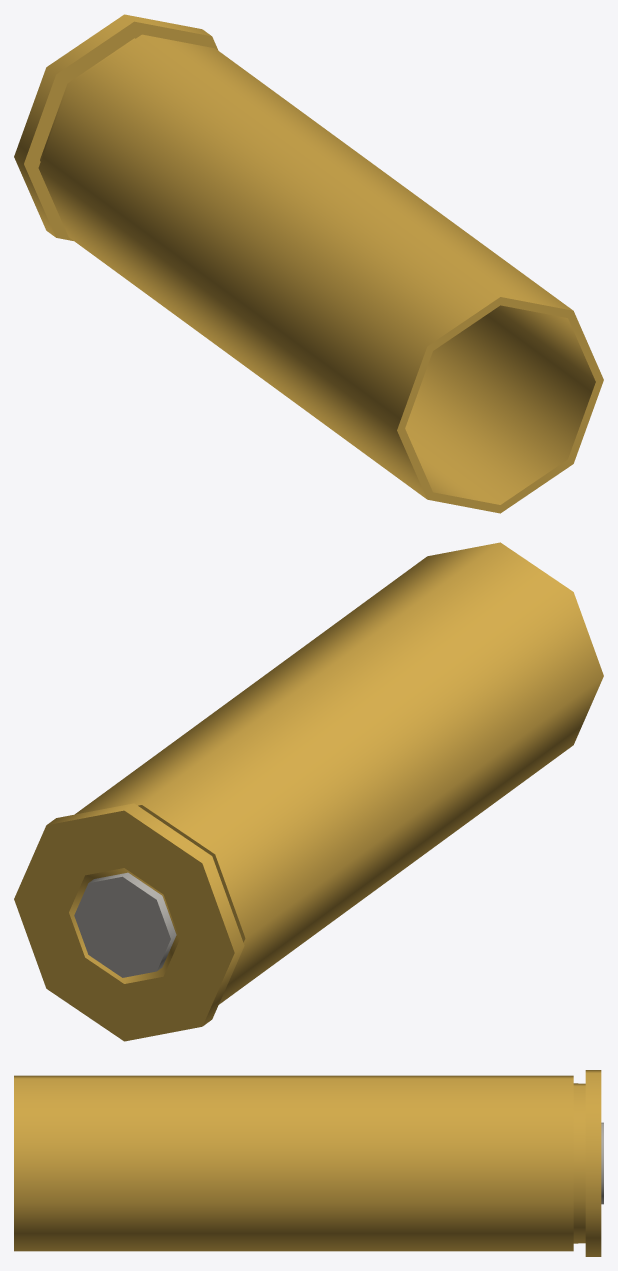
The model's file is Empty357.FBX.
3 renders of one model, top to bottom at view 1: azimuth 30°, elevation 25°; view 2: azimuth 150°, elevation 25°; view 3: azimuth 270°, elevation 25°, orthographic. The views are drawn at different scales.
Visible parts, largest first — view 1: Empty357; view 2: Empty357; view 3: Empty357.
Part boxes in pixels (left/top/right/bottom): Empty357: left=14, top=14, right=603, bottom=513; Empty357: left=14, top=542, right=603, bottom=1041; Empty357: left=14, top=1070, right=603, bottom=1256.
Bounding box in the file's own units: 1.5 × 1.5 × 4.45.
